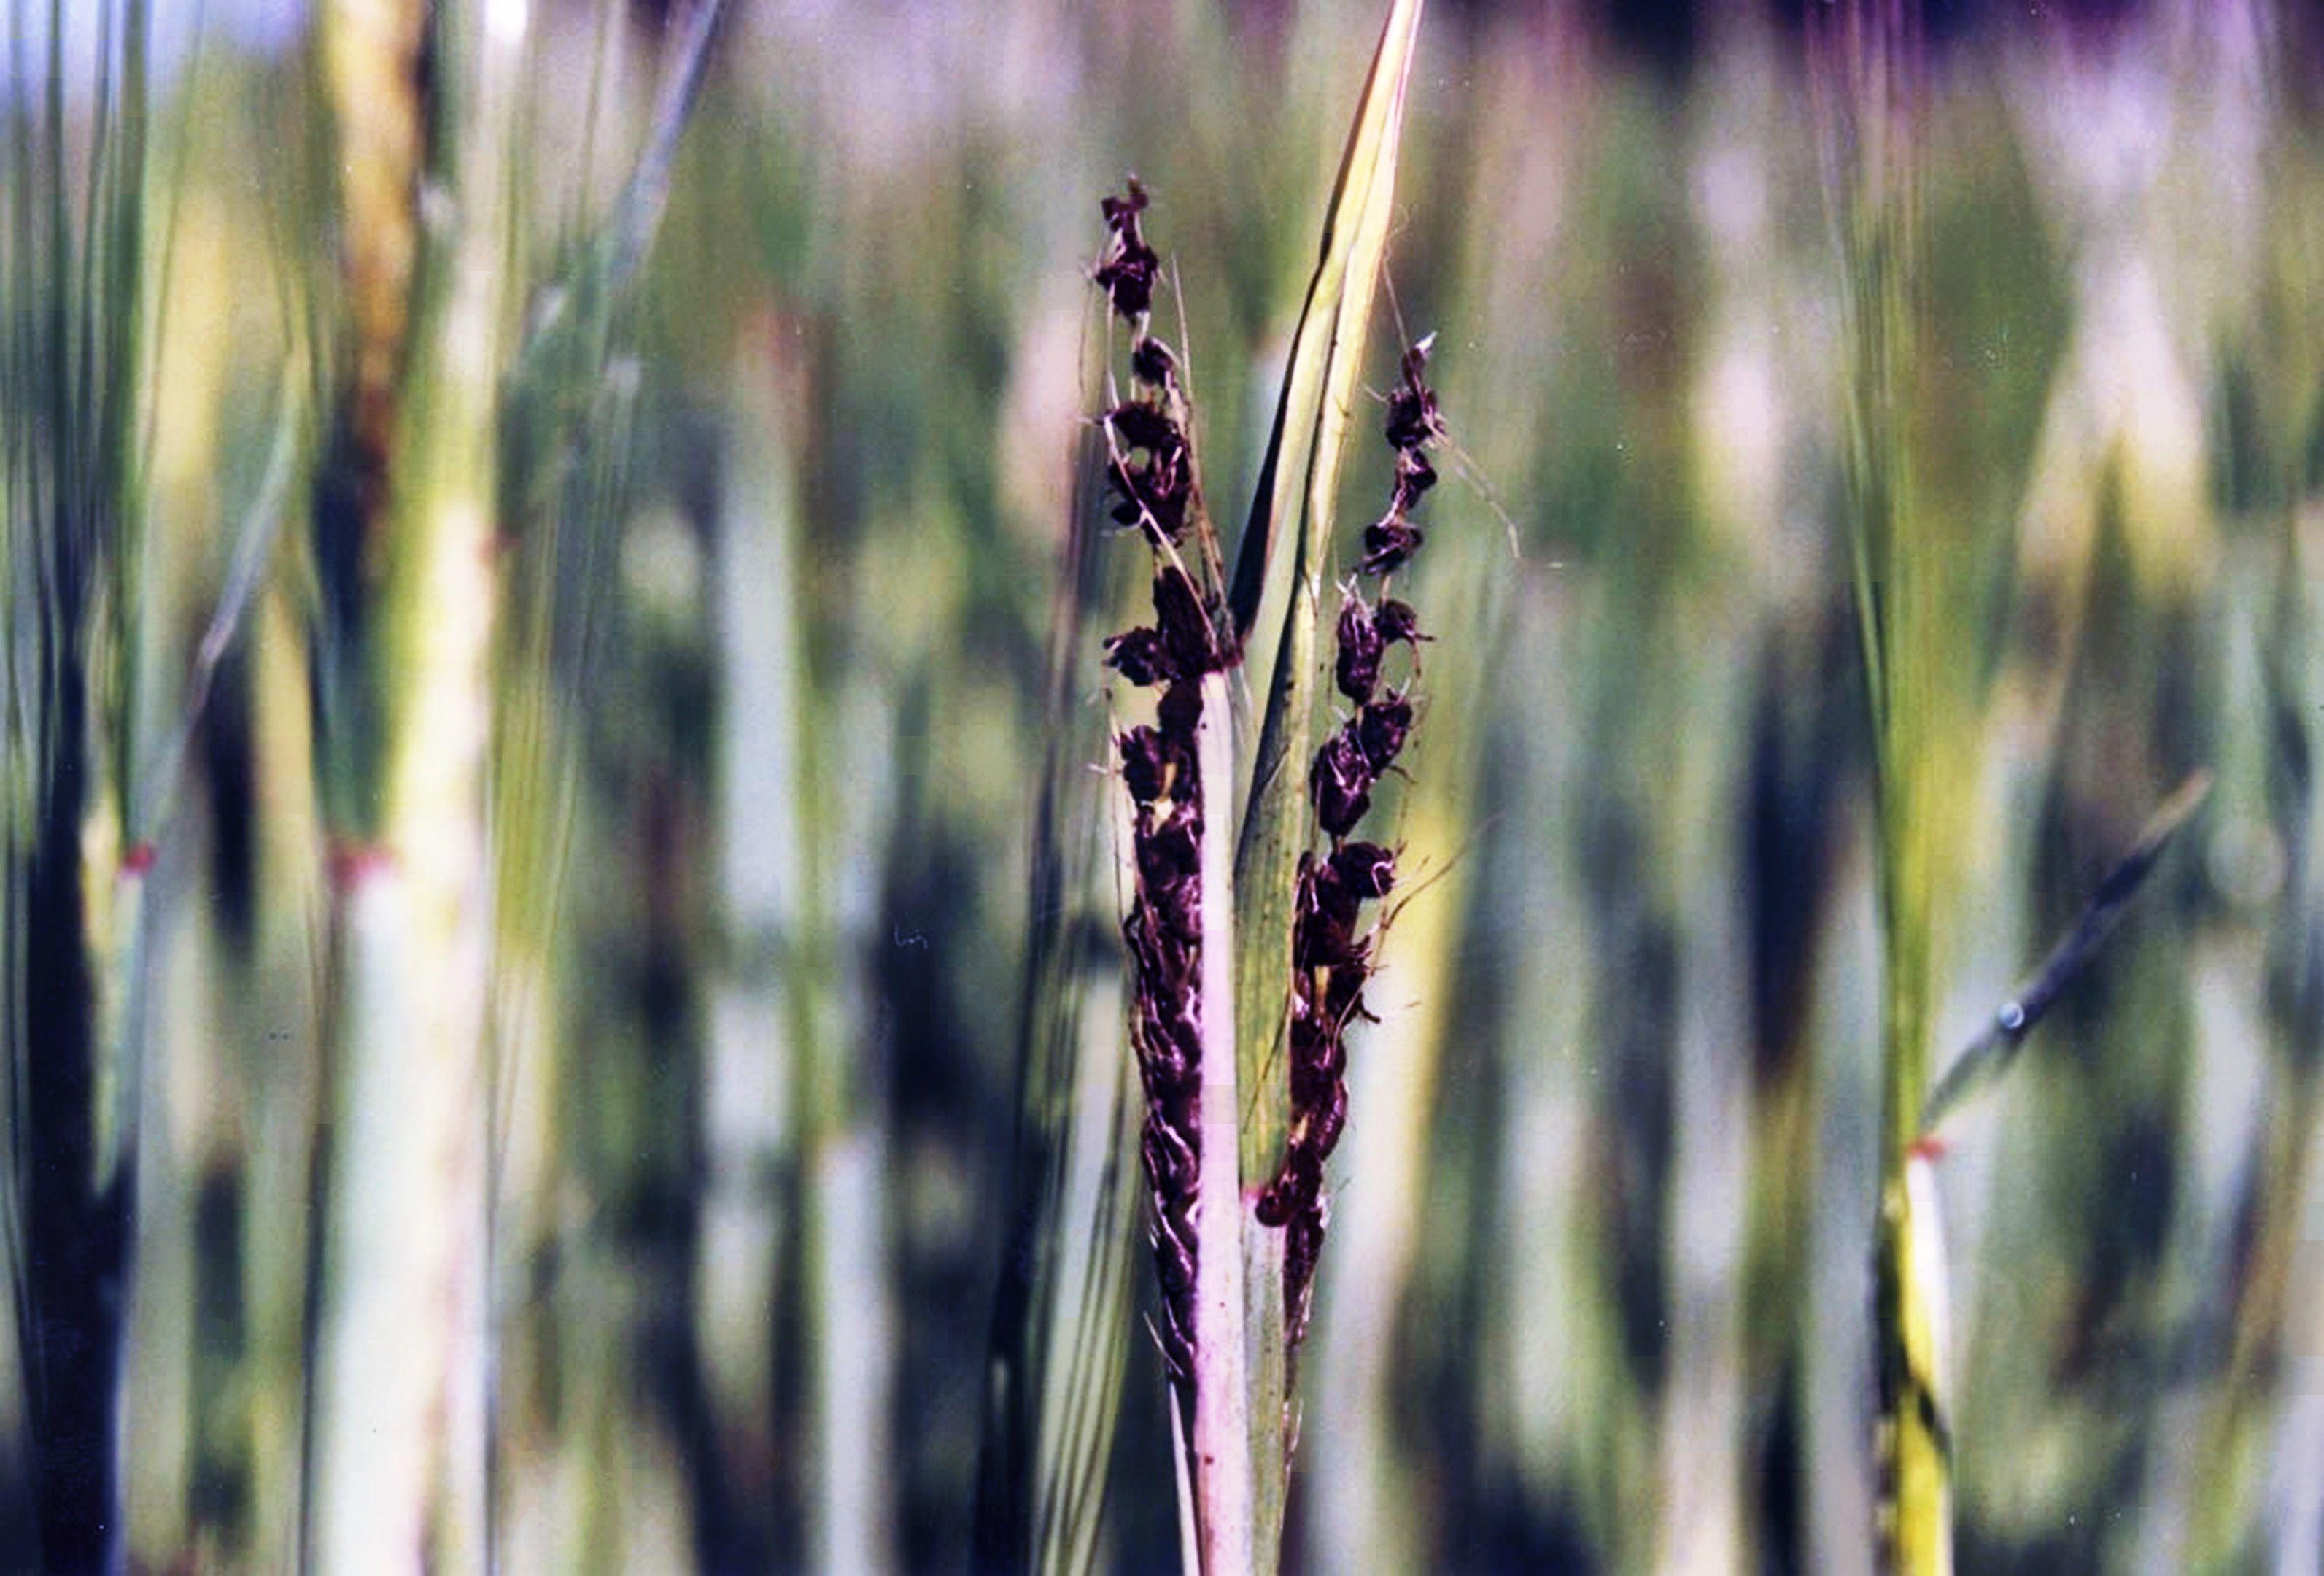Wheat Loose Smut: (1074, 185, 1461, 1368)
